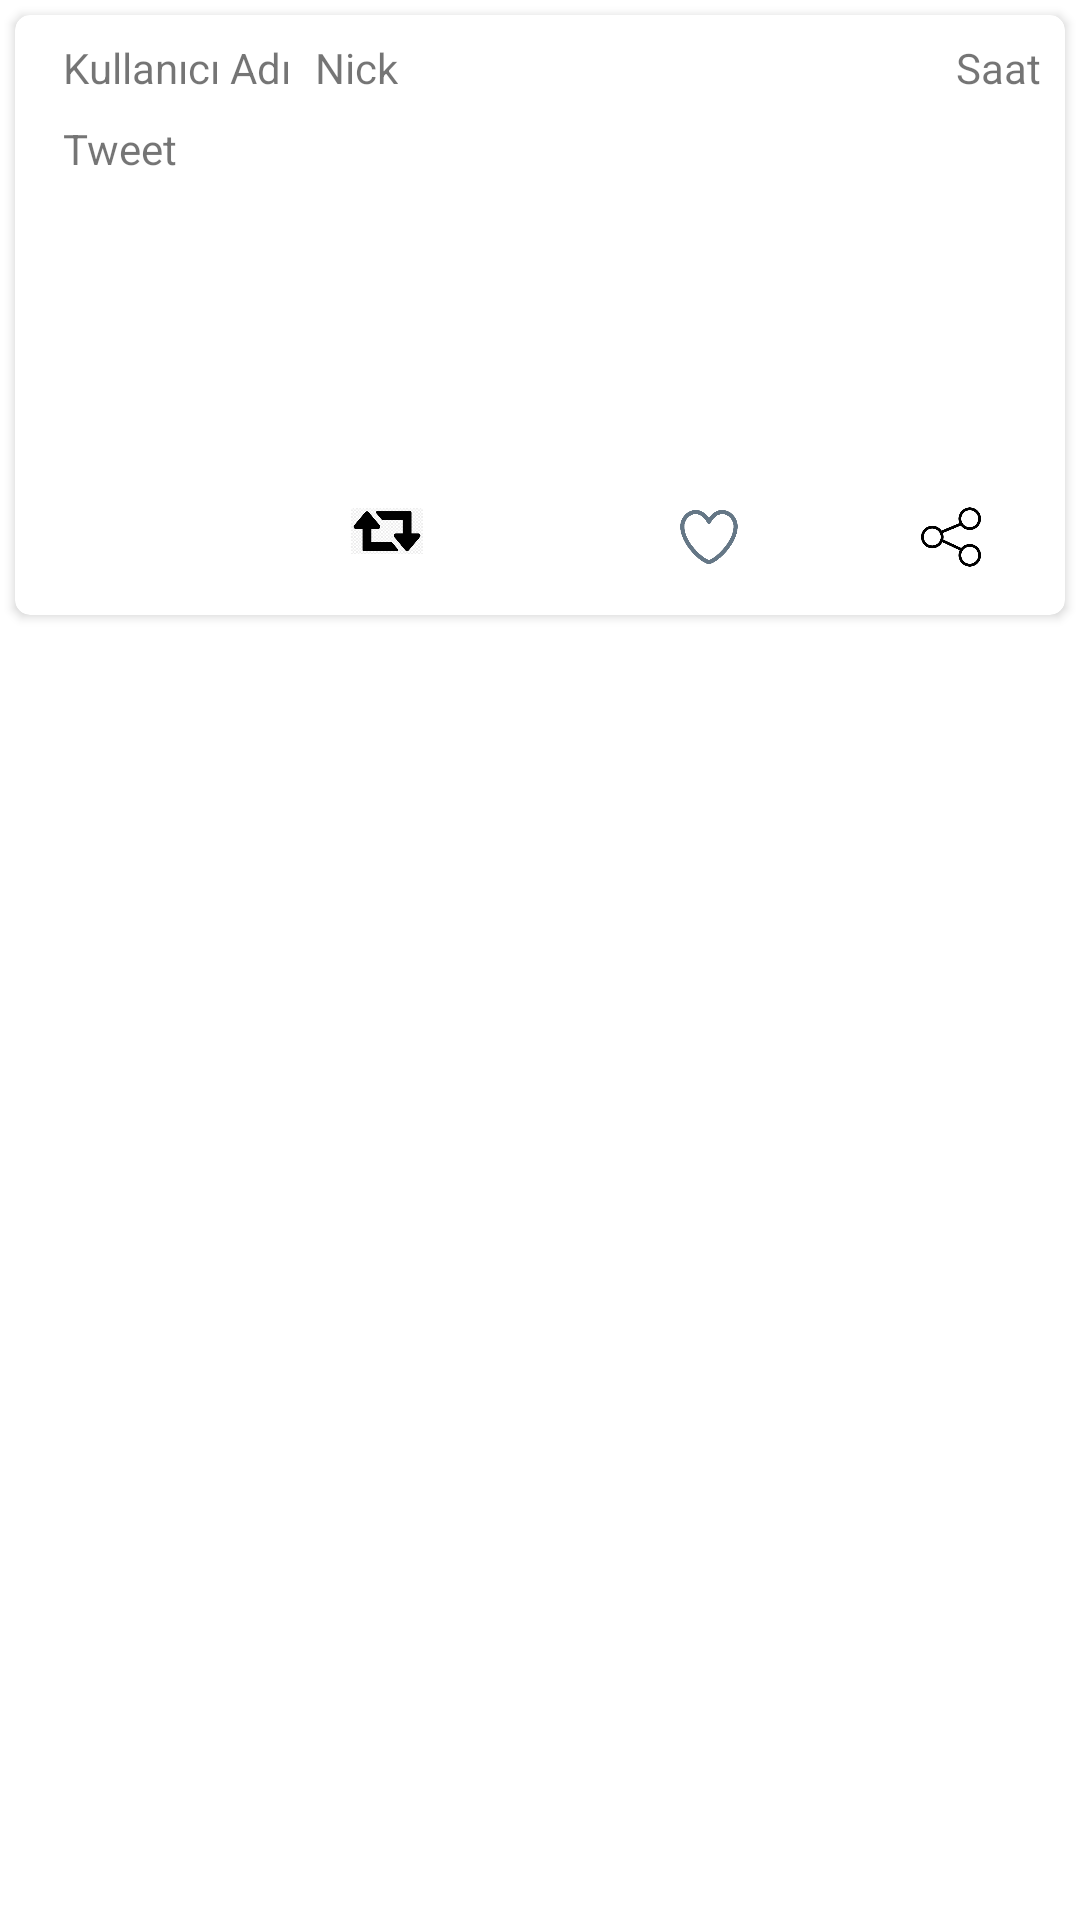

Screen size 1080px×1920px. Icon name, then its center in pixels as (x,y):
share: (951,537)
twitter favorite: (709,537)
